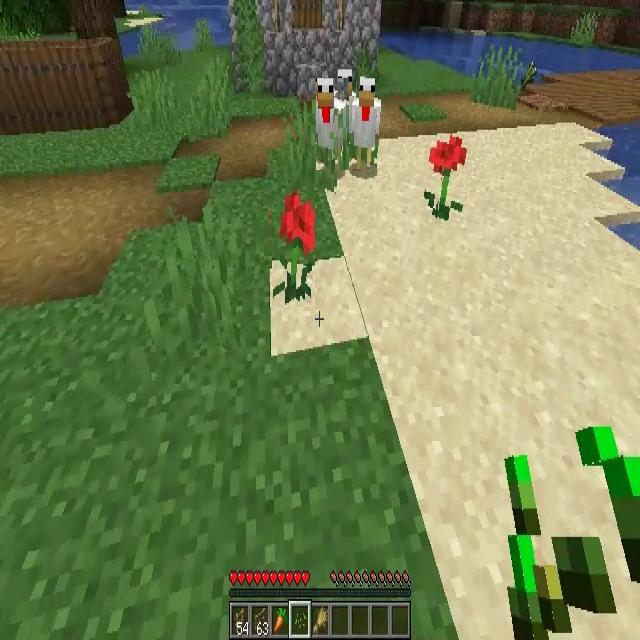duck: (316, 78, 349, 170), (352, 79, 382, 168), (334, 66, 356, 132)
flower: (272, 195, 315, 308), (424, 138, 467, 223)
